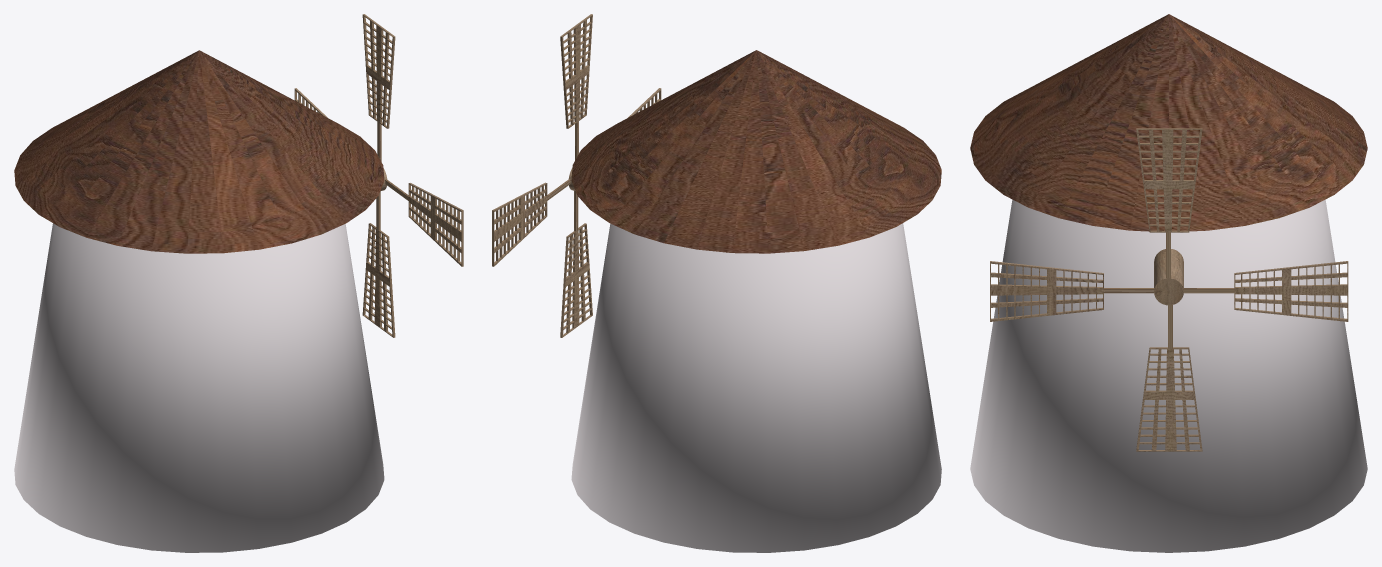
File: Molino3.fbx
3 views of the same model, side by side, from view 1: azimuth 30°, elevation 25°; view 2: azimuth 150°, elevation 25°; view 3: azimuth 270°, elevation 25° (orthographic). The views are drawn at different scales.
Parts seen in each view (by area): view 1: Base, Techo, Aspas3, Aspas1, Aspas4; view 2: Base, Techo, Aspas2, Aspas4, Aspas3; view 3: Base, Techo, Aspas2, Aspas3, Aspas4, Aspas1, RotorMolino.
Boxes of the visible parts, x1,y1,x2,y2 form: Base: [14, 223, 384, 552]; Techo: [14, 50, 384, 253]; Aspas3: [362, 14, 395, 161]; Aspas1: [385, 179, 463, 266]; Aspas4: [362, 191, 395, 337]; Base: [571, 223, 941, 552]; Techo: [571, 50, 941, 253]; Aspas2: [492, 179, 570, 266]; Aspas4: [560, 191, 592, 337]; Aspas3: [560, 14, 592, 160]; Base: [970, 199, 1367, 552]; Techo: [970, 14, 1367, 231]; Aspas2: [1183, 261, 1348, 321]; Aspas3: [1136, 128, 1202, 278]; Aspas4: [1136, 305, 1202, 451]; Aspas1: [990, 261, 1154, 321]; RotorMolino: [1154, 249, 1183, 305].
Size of the model in its own units: 14133 by 16780 by 13288.
7 materials, 6 textured.
